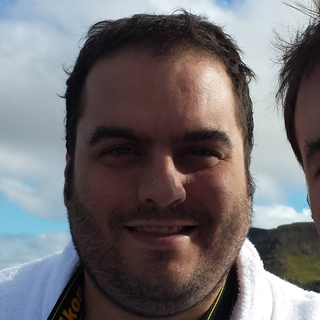eye: (182, 142, 223, 165)
